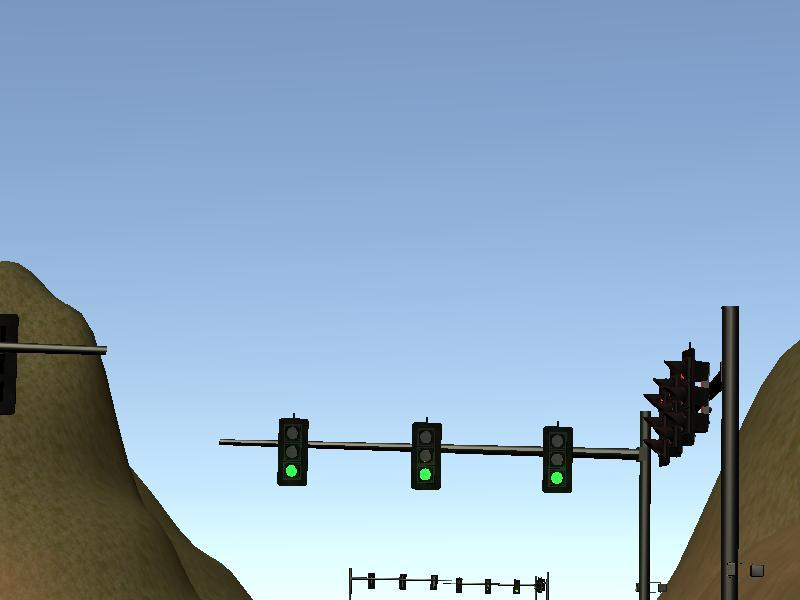Green: (278, 419, 307, 485), (412, 423, 440, 489), (543, 427, 571, 492)
